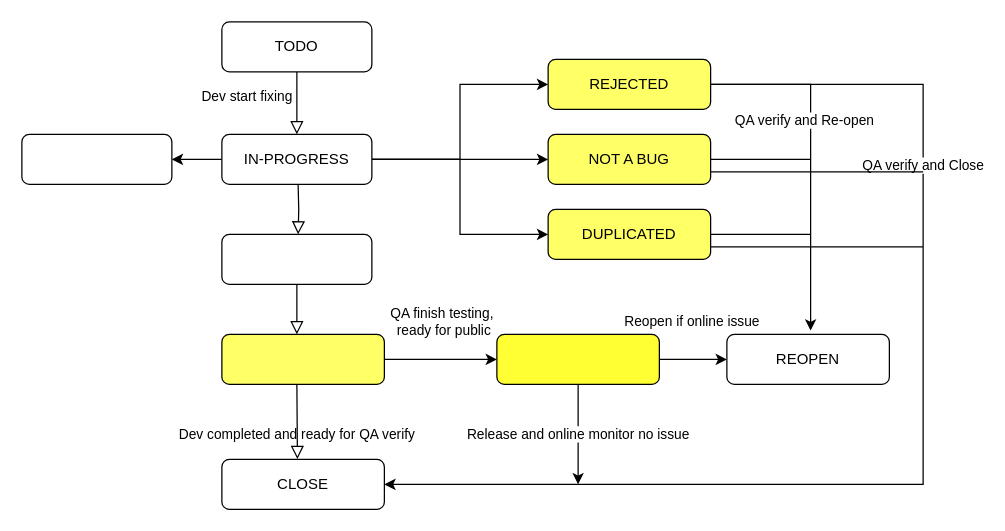
Some shapes in this 1005 by 531 pixel diagram are drawn without their labels. Each missing label, with the centre of its shape:
BACKLOG: the point at 96,158
DEV_COMPLETED: the point at 296,258
Ready for Publish: the point at 577,358
RESOLVED / IN-TEST: the point at 302,358
